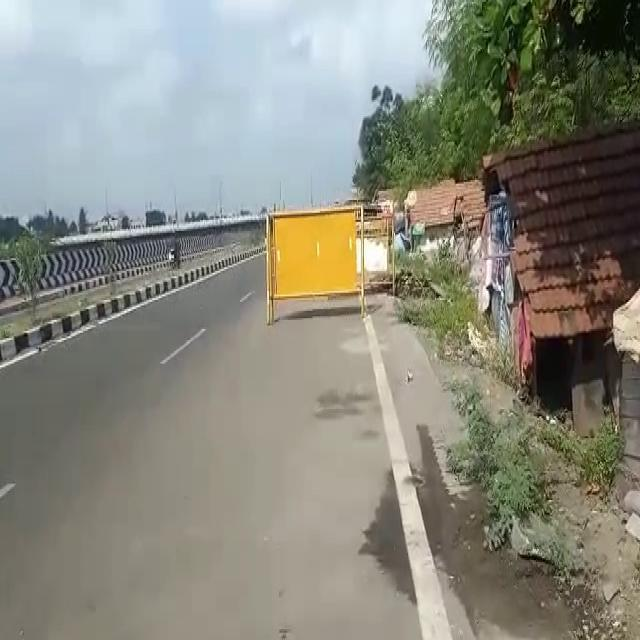fallen_object: (249, 196, 392, 339)
